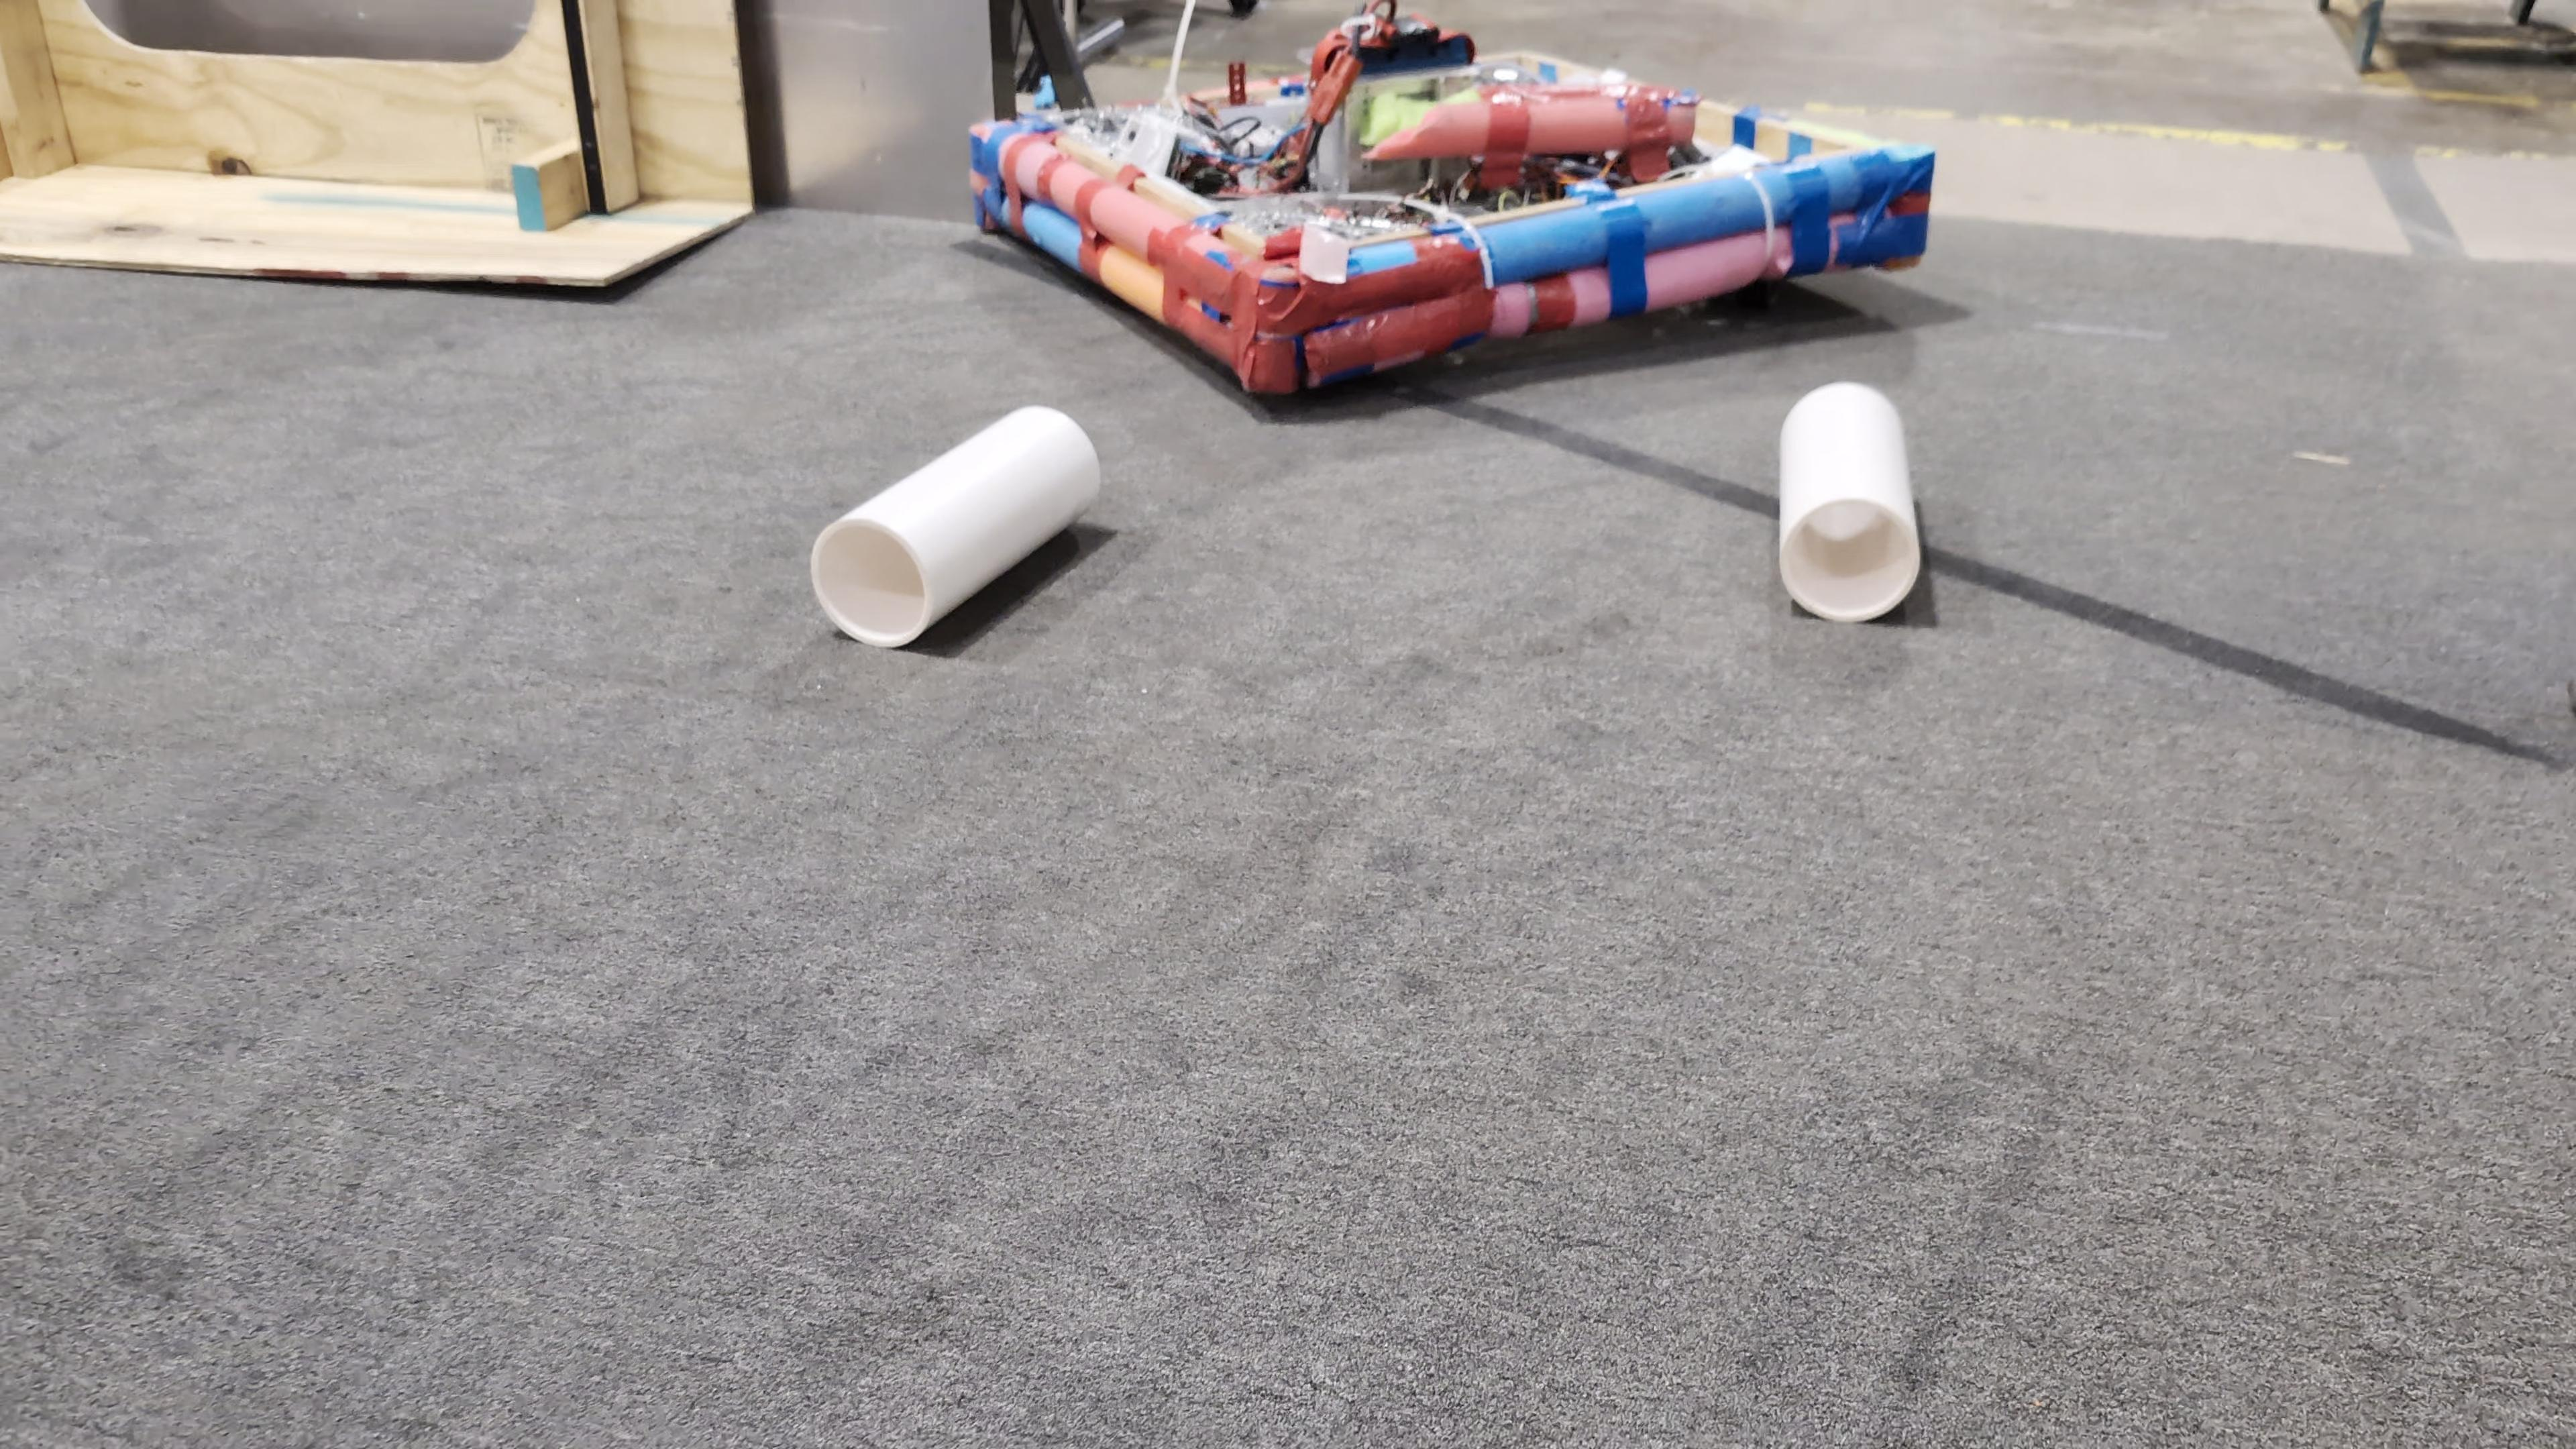coral: (814, 407, 1102, 646), (1782, 380, 1920, 621)
